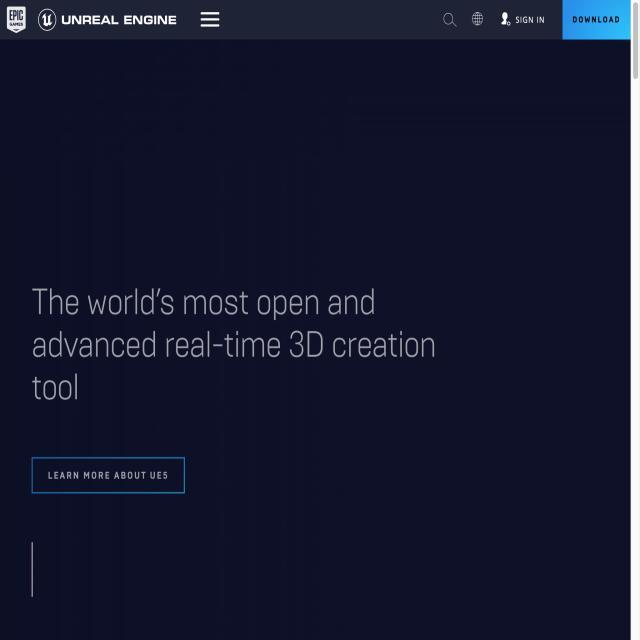button: (30, 454, 187, 500), (561, 0, 632, 42)
text: (19, 280, 450, 406)
